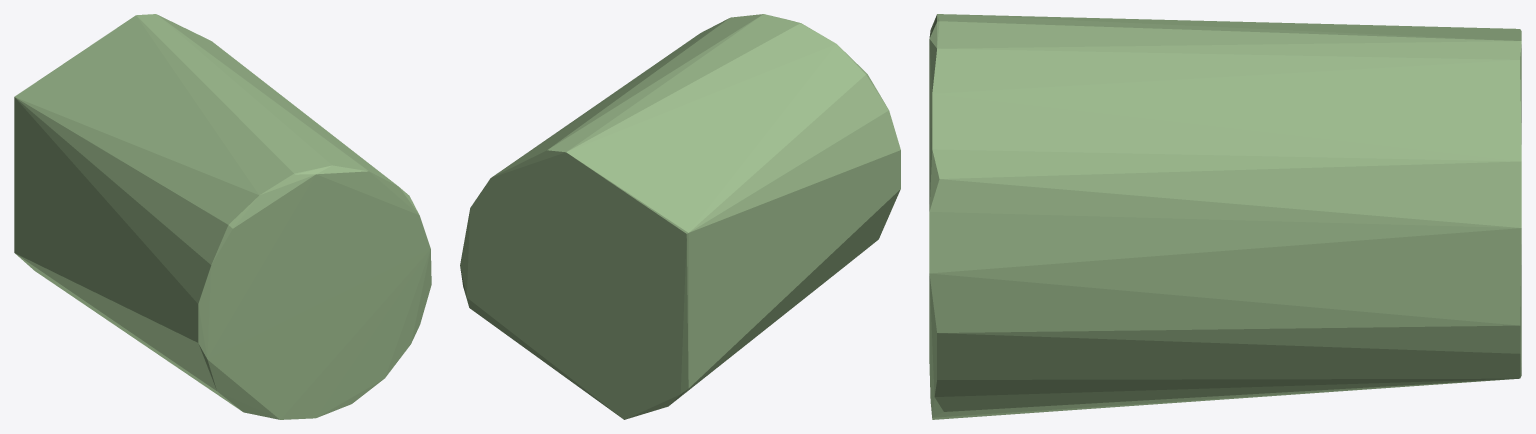
Rendered from food_beverage_coffeeCup_j01.glb.
3 views of the same model, side by side, from view 1: azimuth 30°, elevation 25°; view 2: azimuth 150°, elevation 25°; view 3: azimuth 270°, elevation 25° (orthographic). The views are drawn at different scales.
Visible parts, largest first — view 1: geometry_0; view 2: geometry_0; view 3: geometry_0.
Boxes of the visible parts, x1,y1,x2,y2 form: geometry_0: (14,14,431,419); geometry_0: (460,14,900,419); geometry_0: (929,14,1521,419).
Bounding box in the file's own units: 0.3375 × 0.3385 × 0.48.
